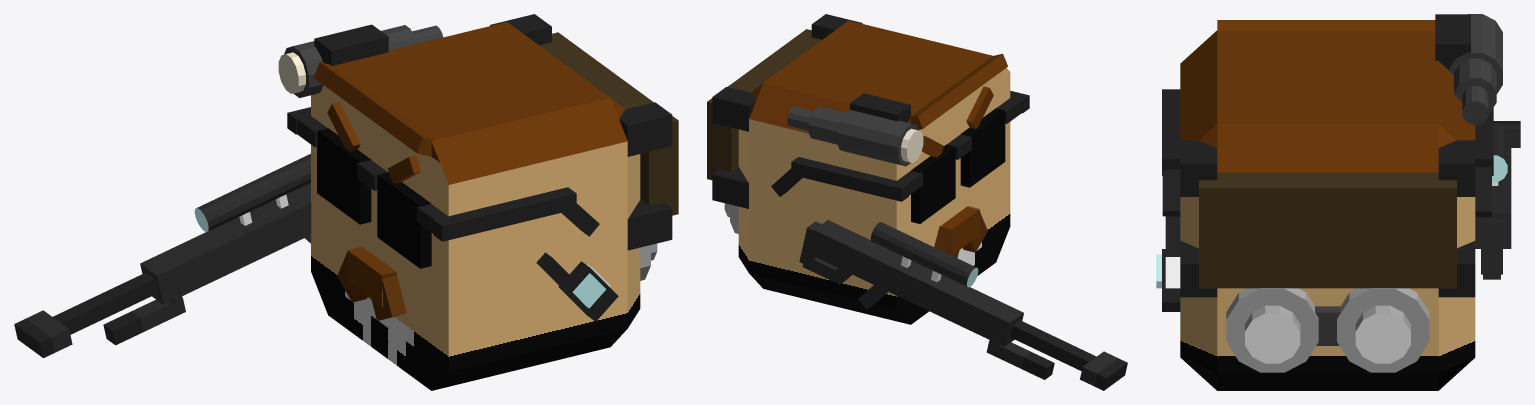
The model's file is playerReloadingsniper.gltf.
The picture shows the model from 3 angles, left to right: view 1: azimuth 30°, elevation 25°; view 2: azimuth 150°, elevation 25°; view 3: azimuth 270°, elevation 25°; orthographic projection. The views are drawn at different scales.
Parts seen in each view (by area): view 1: tube, cube; view 2: tube, cube; view 3: tube, cube.
Boxes of the visible parts, box(x1,y1,x2,y2) form: tube: box(278, 14, 678, 390); cube: box(14, 154, 311, 357); tube: box(707, 14, 1029, 324); cube: box(799, 220, 1127, 390); tube: box(1156, 14, 1502, 390); cube: box(1475, 121, 1520, 279).
Size of the model in its own units: 2.15 by 1.06 by 1.23.
Materials: 4 (4 with a texture image).
